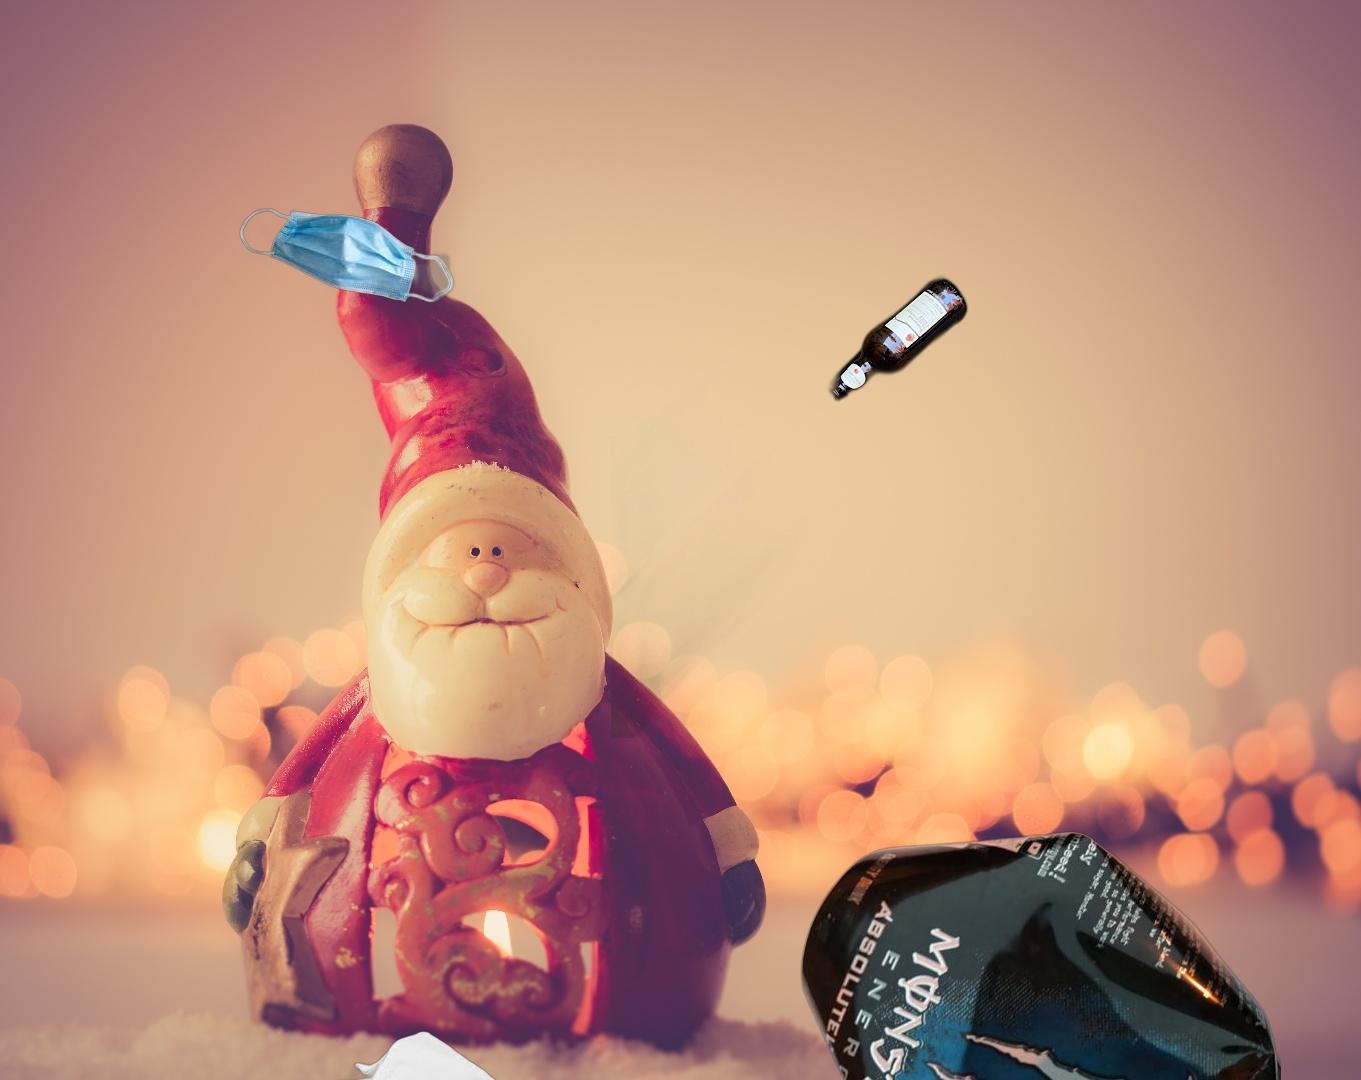glass: (611, 272, 971, 738)
metal-cans: (796, 828, 1281, 1080)
trash: (238, 205, 458, 305), (264, 1029, 519, 1080)
